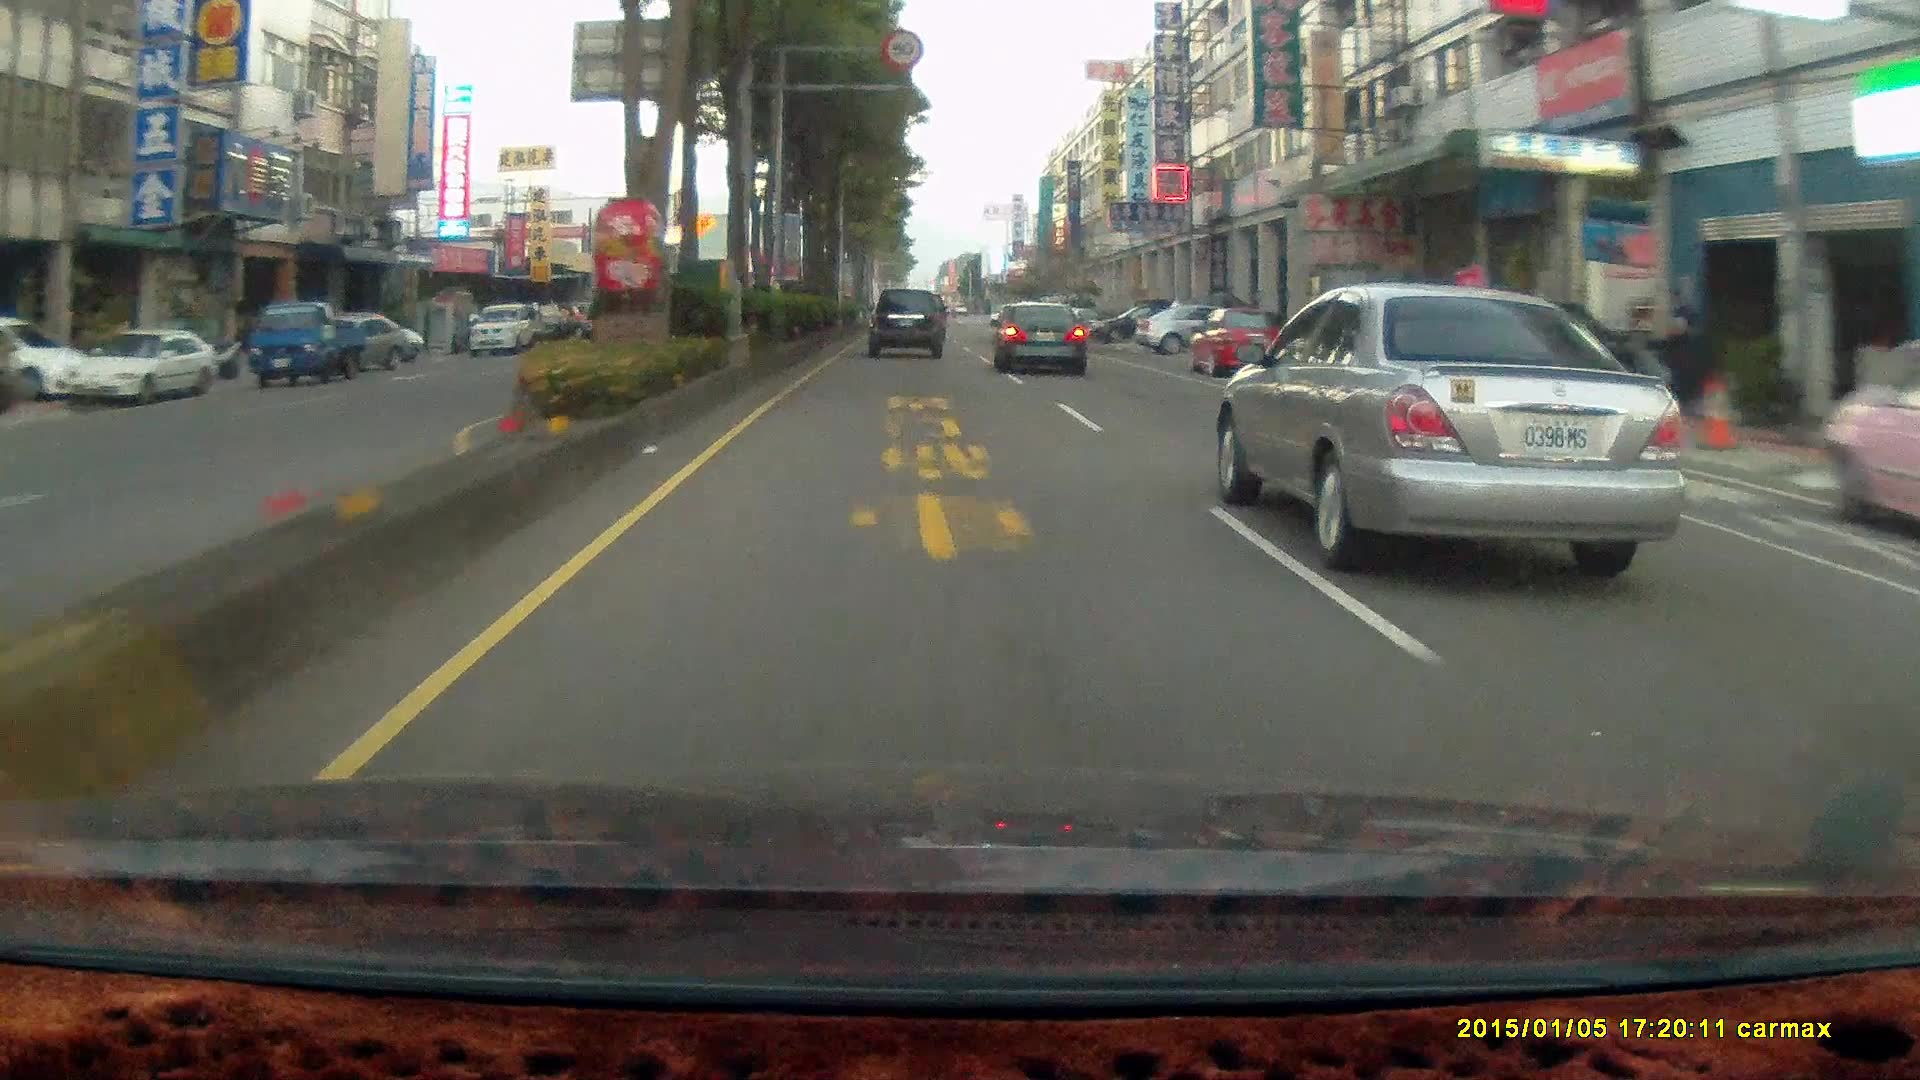vehicle: (1226, 286, 1708, 568), (1432, 291, 1646, 414), (1816, 328, 1920, 541), (1822, 338, 1920, 545), (59, 327, 215, 405), (244, 305, 377, 386), (66, 328, 214, 401), (247, 297, 364, 385), (0, 316, 91, 402), (1191, 309, 1294, 384), (989, 298, 1087, 375), (994, 301, 1091, 377), (1185, 305, 1284, 376), (1131, 297, 1255, 351), (298, 313, 406, 371), (866, 287, 949, 363), (864, 286, 943, 356), (467, 301, 538, 353), (1091, 302, 1182, 342)
